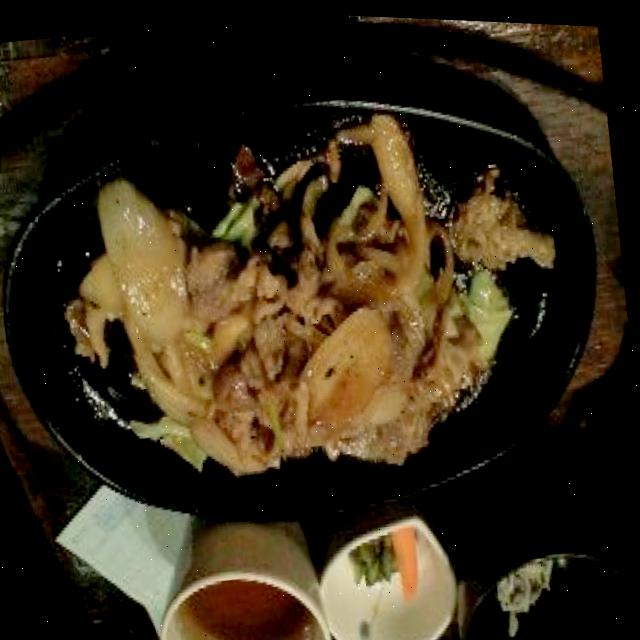猪肉菜式: (94, 109, 563, 508)
